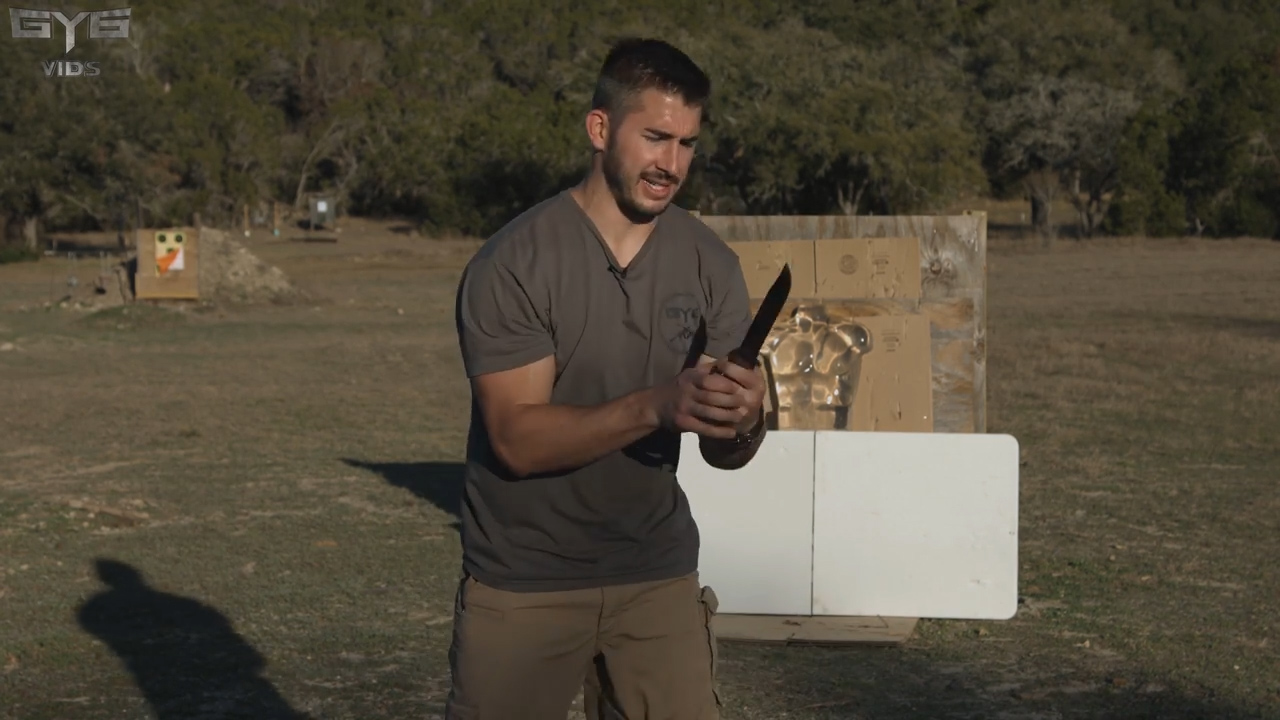knife: (695, 244, 811, 413)
